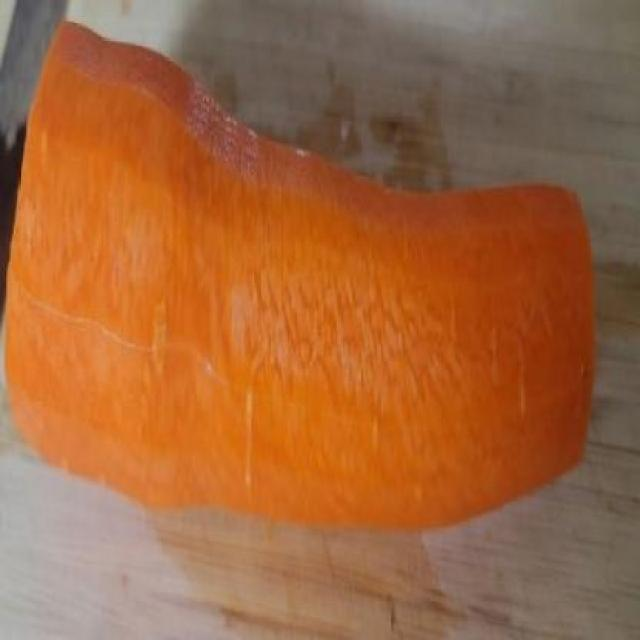carrot: (7, 16, 601, 548)
